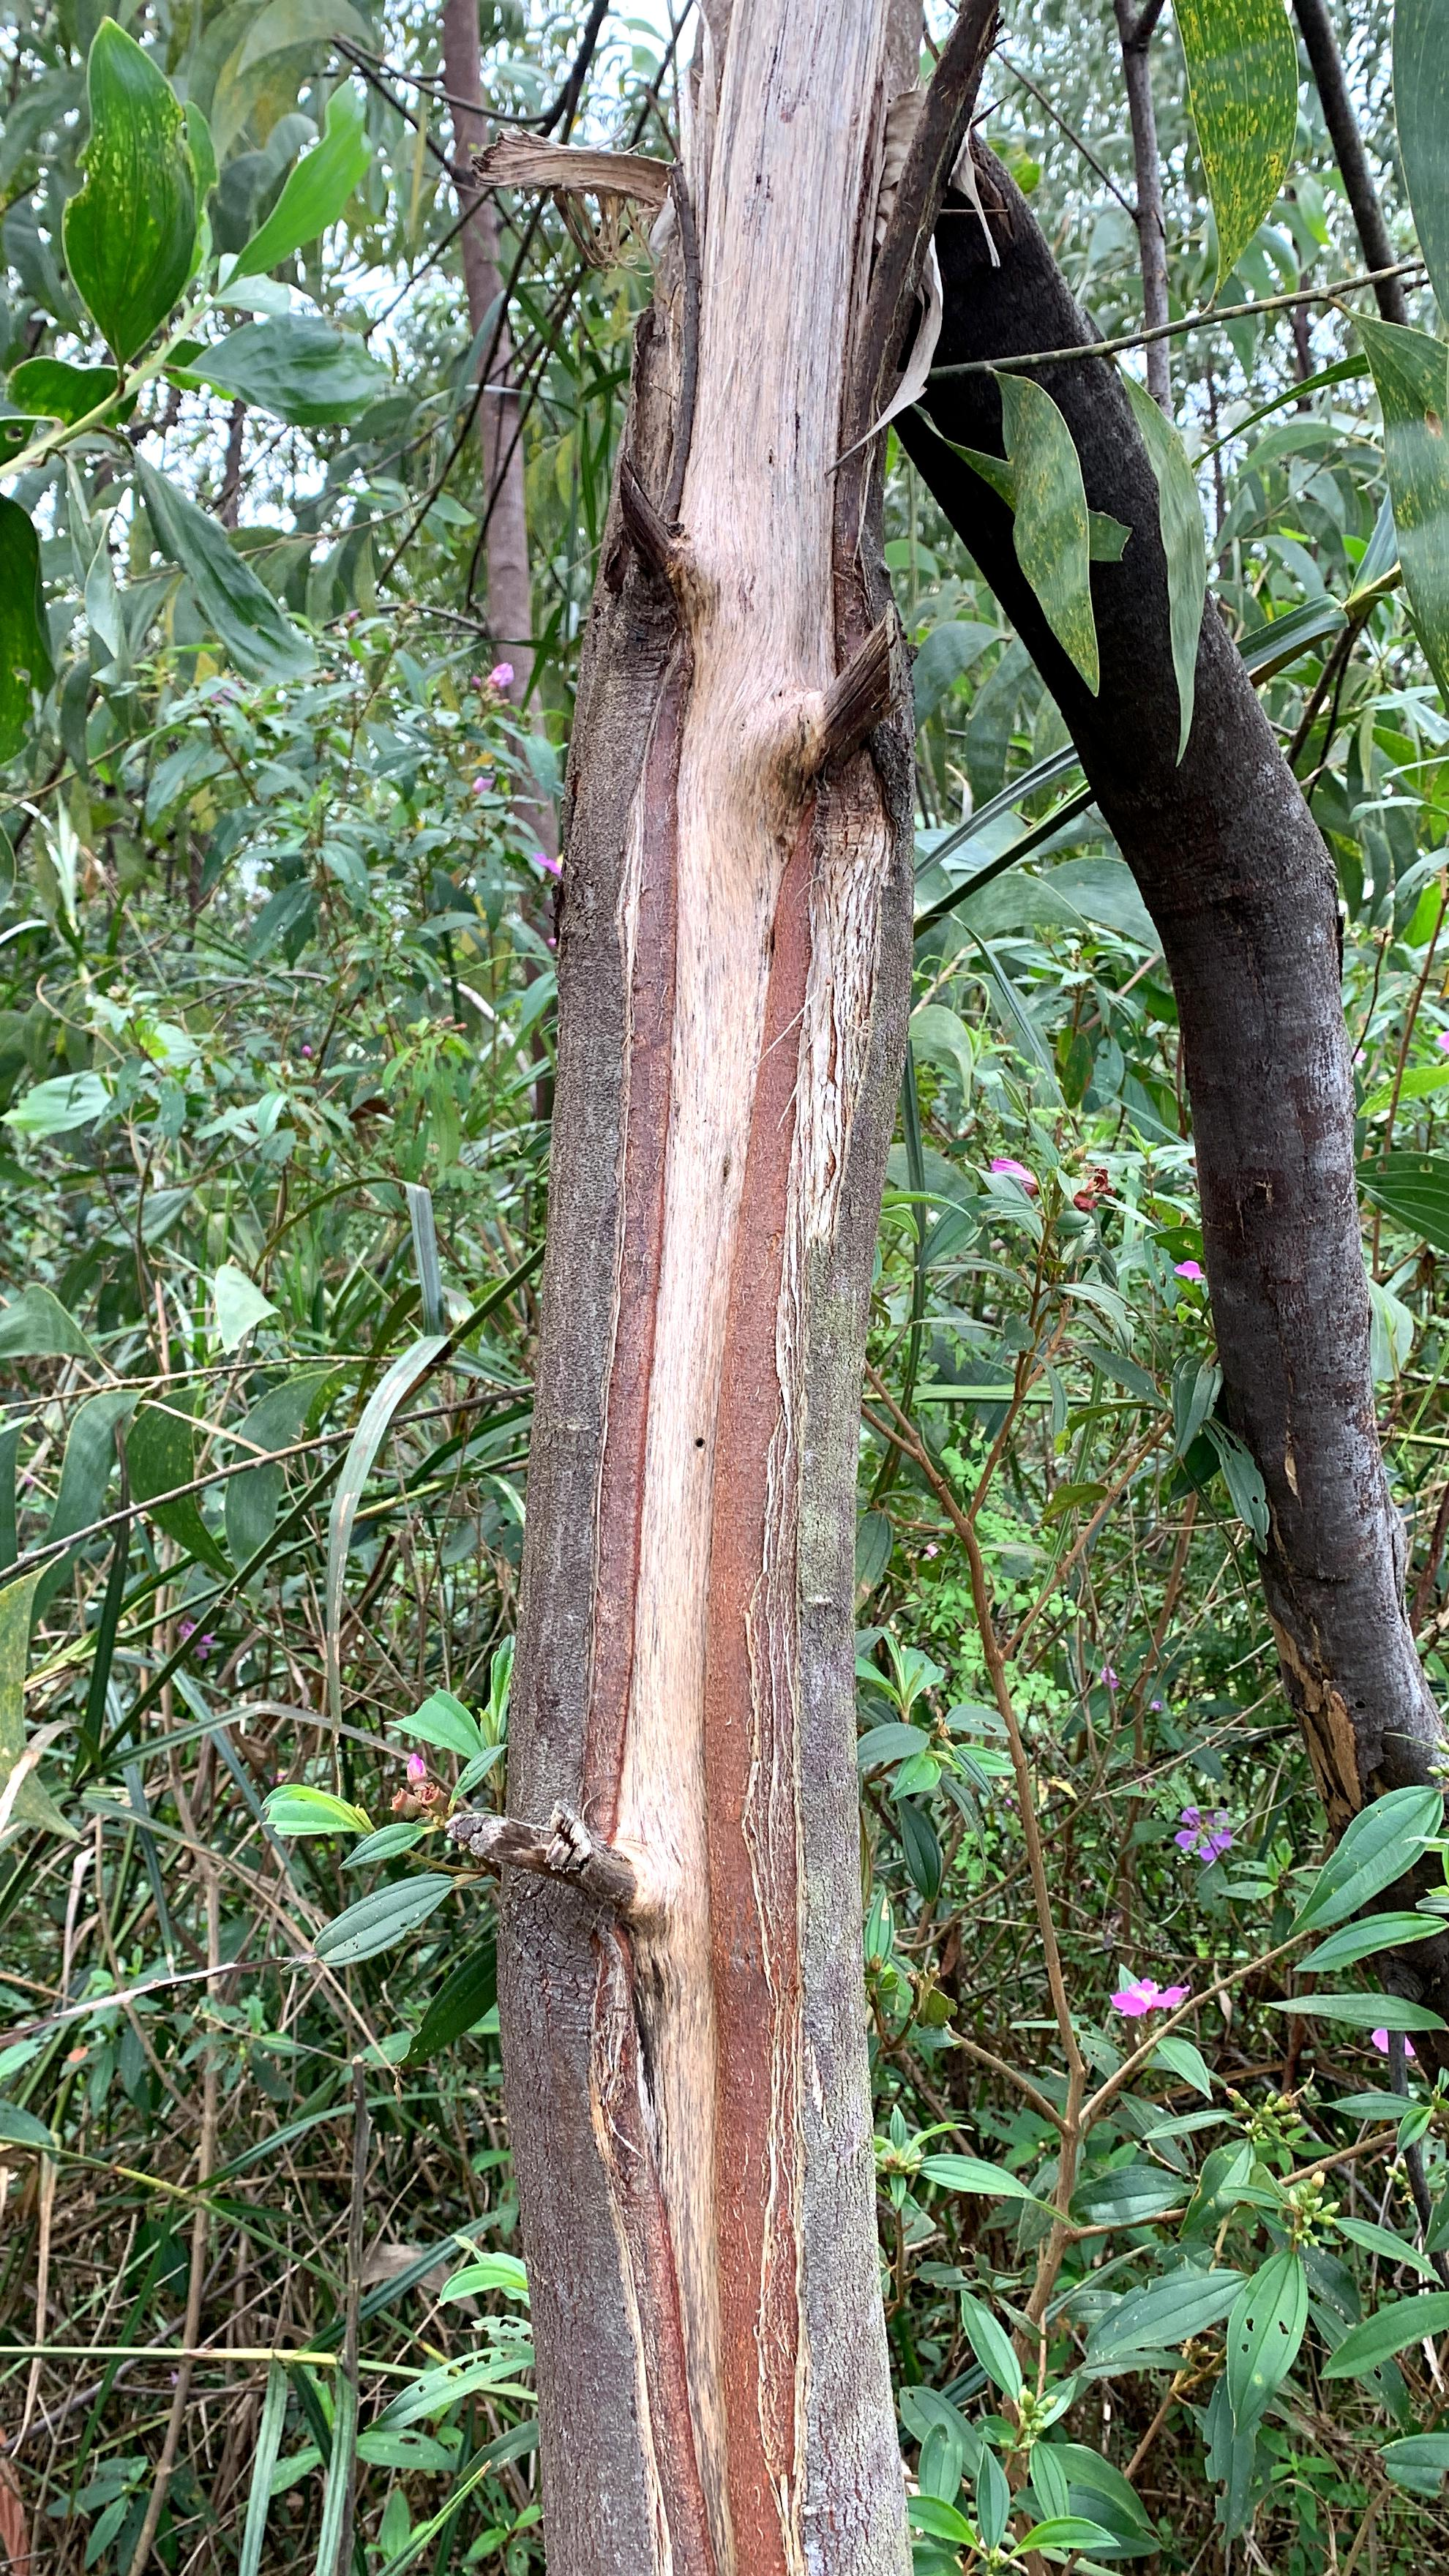Mammals Attack: (499, 0, 920, 2576)
